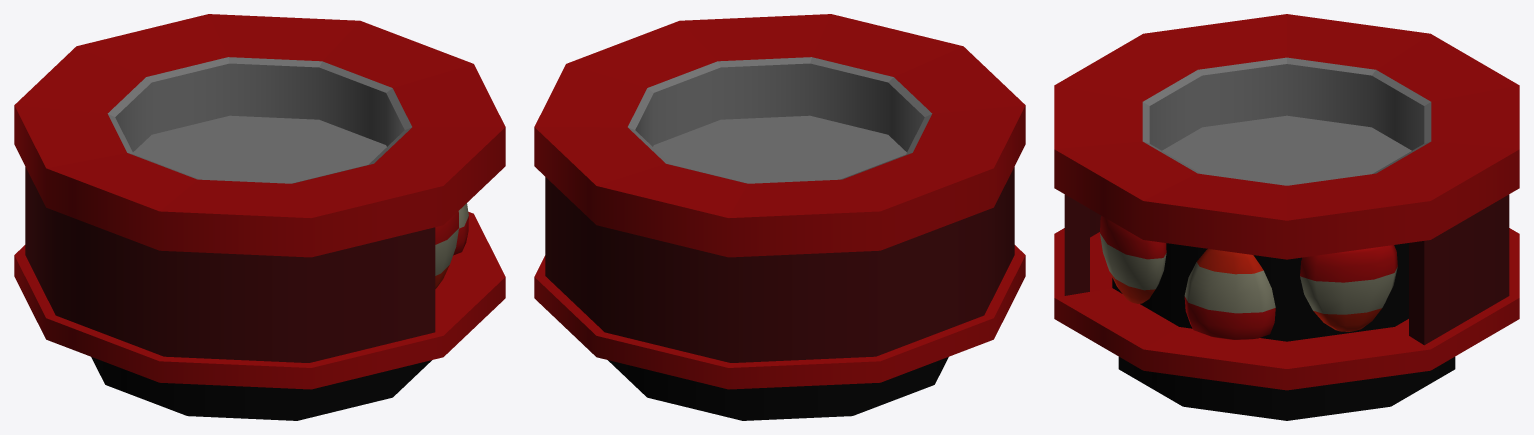
Rendered from SM_Modifier_Red.fbx.
3 renders of one model, left to right at view 1: azimuth 30°, elevation 25°; view 2: azimuth 150°, elevation 25°; view 3: azimuth 270°, elevation 25°, orthographic.
Parts seen in each view (by area): view 1: SM_Modifier_Red; view 2: SM_Modifier_Red; view 3: SM_Modifier_Red.
Boxes of the visible parts, box(x1,y1,x2,y2) form: SM_Modifier_Red: box(14, 14, 505, 420); SM_Modifier_Red: box(534, 14, 1025, 420); SM_Modifier_Red: box(1054, 14, 1519, 420).
Bounding box in the file's own units: 1.98 × 1.02 × 1.88.
